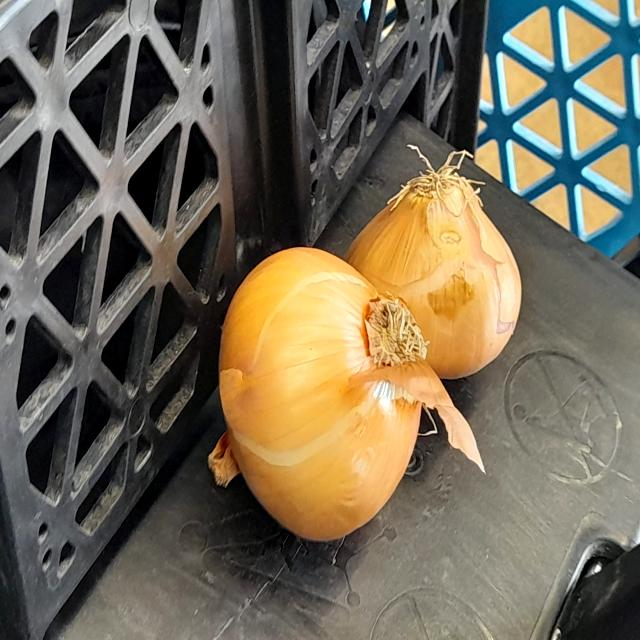onion: (204, 230, 453, 542), (351, 151, 545, 399)
